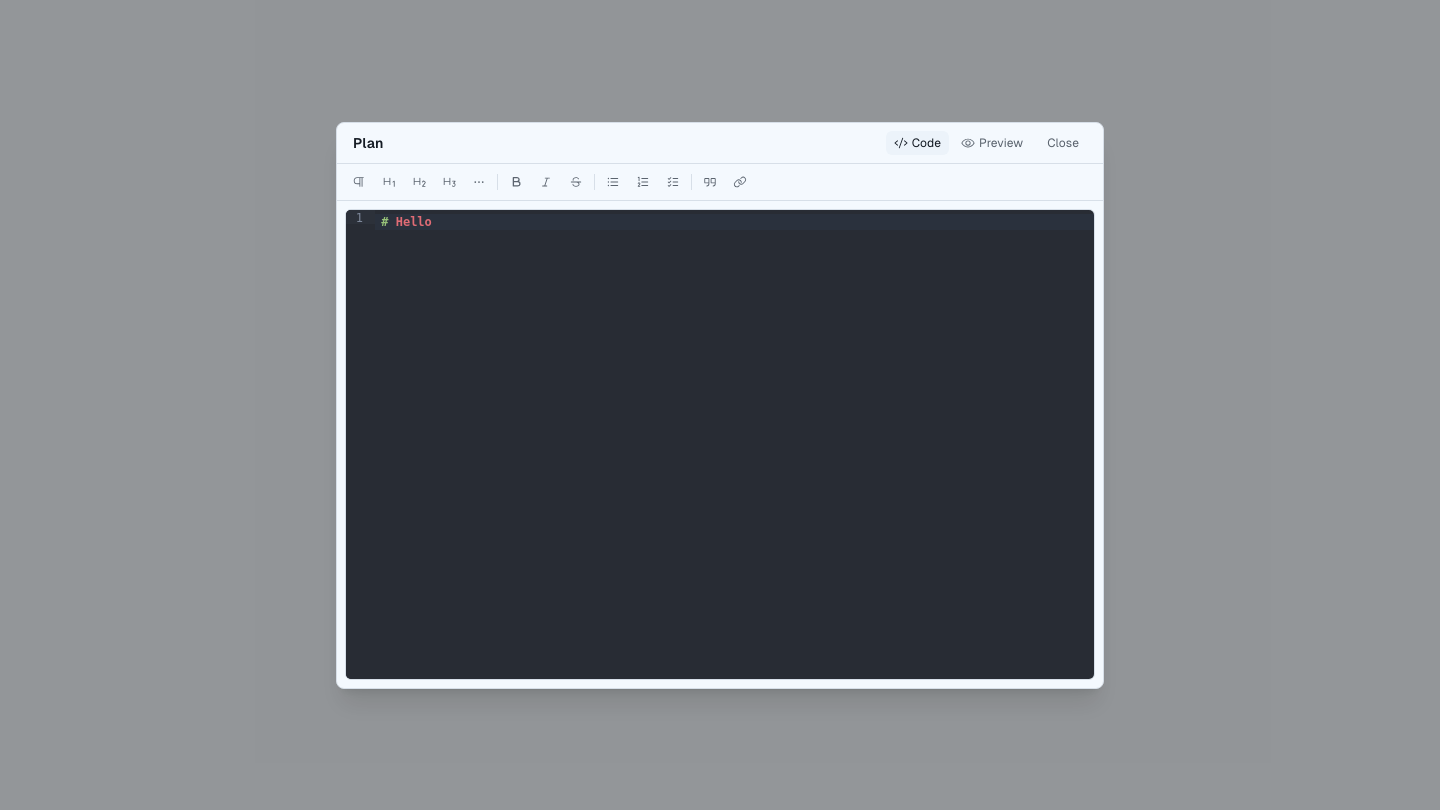
Test case: MarkdownEditorDialog › hides toolbar in preview mode
Click the button with test id "markdown-mode-preview" at (992, 142), box [953,130,1031,154]
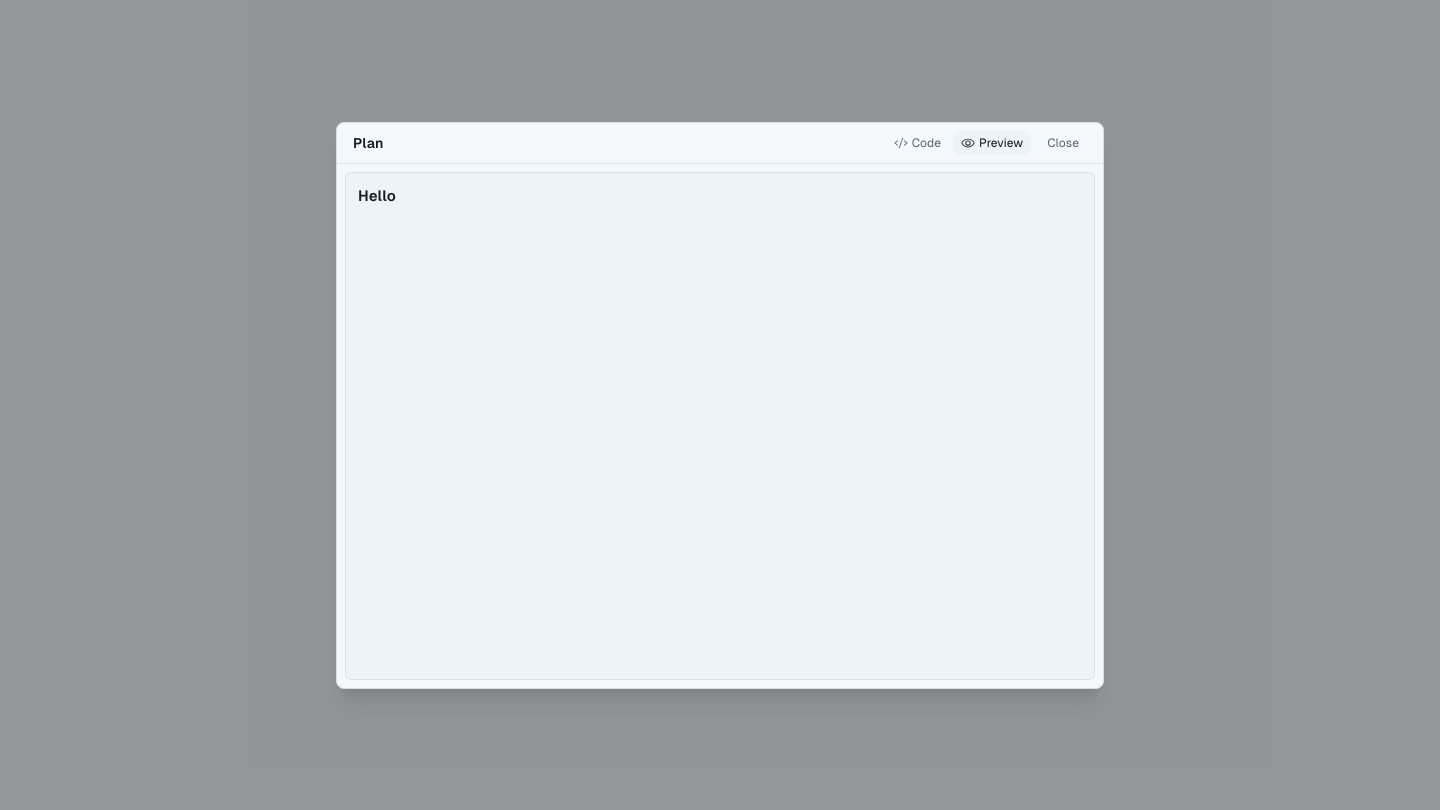
expect the element with test id "markdown-toolbar" is gone: met
